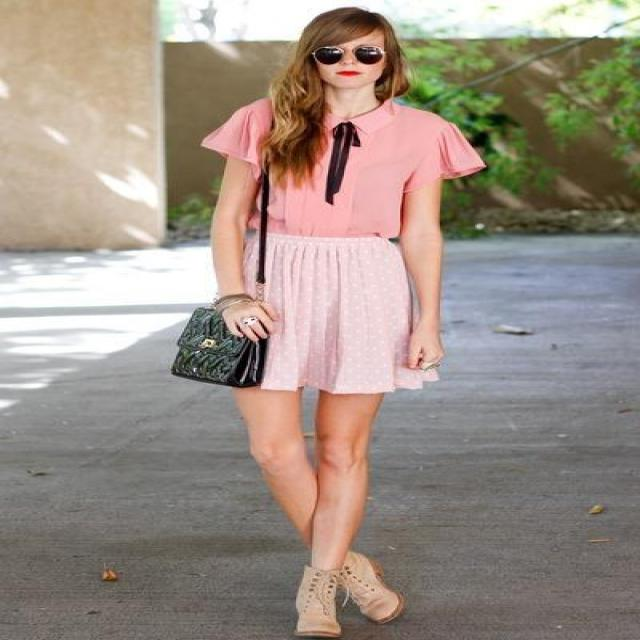bag: (171, 192, 269, 387)
shirt: (202, 95, 478, 239)
shoe: (296, 554, 397, 632)
skirt: (250, 232, 440, 392)
sunglass: (302, 42, 365, 72)
